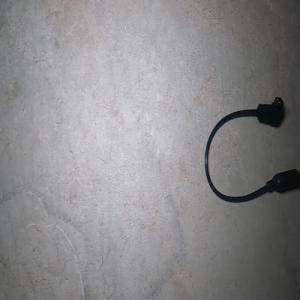Wire: (204, 96, 300, 203)
